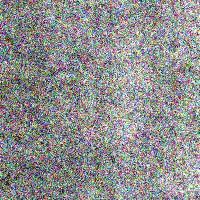crazing: (31, 58, 102, 134), (106, 76, 199, 123)
